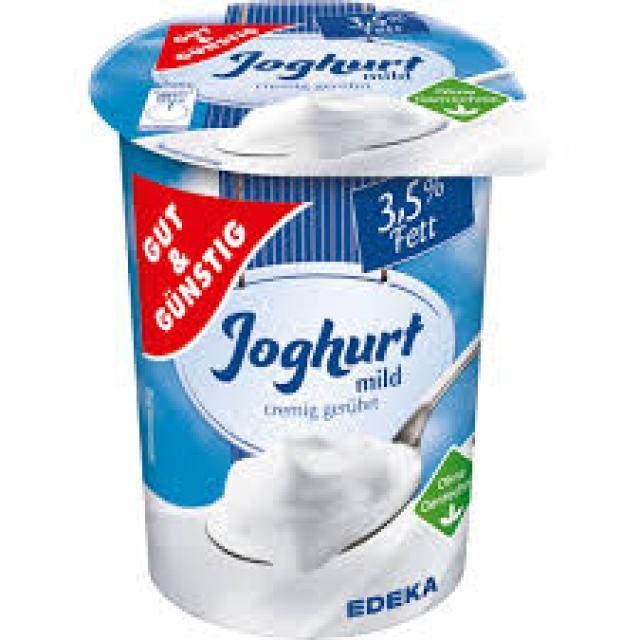plastic: (85, 0, 540, 631)
